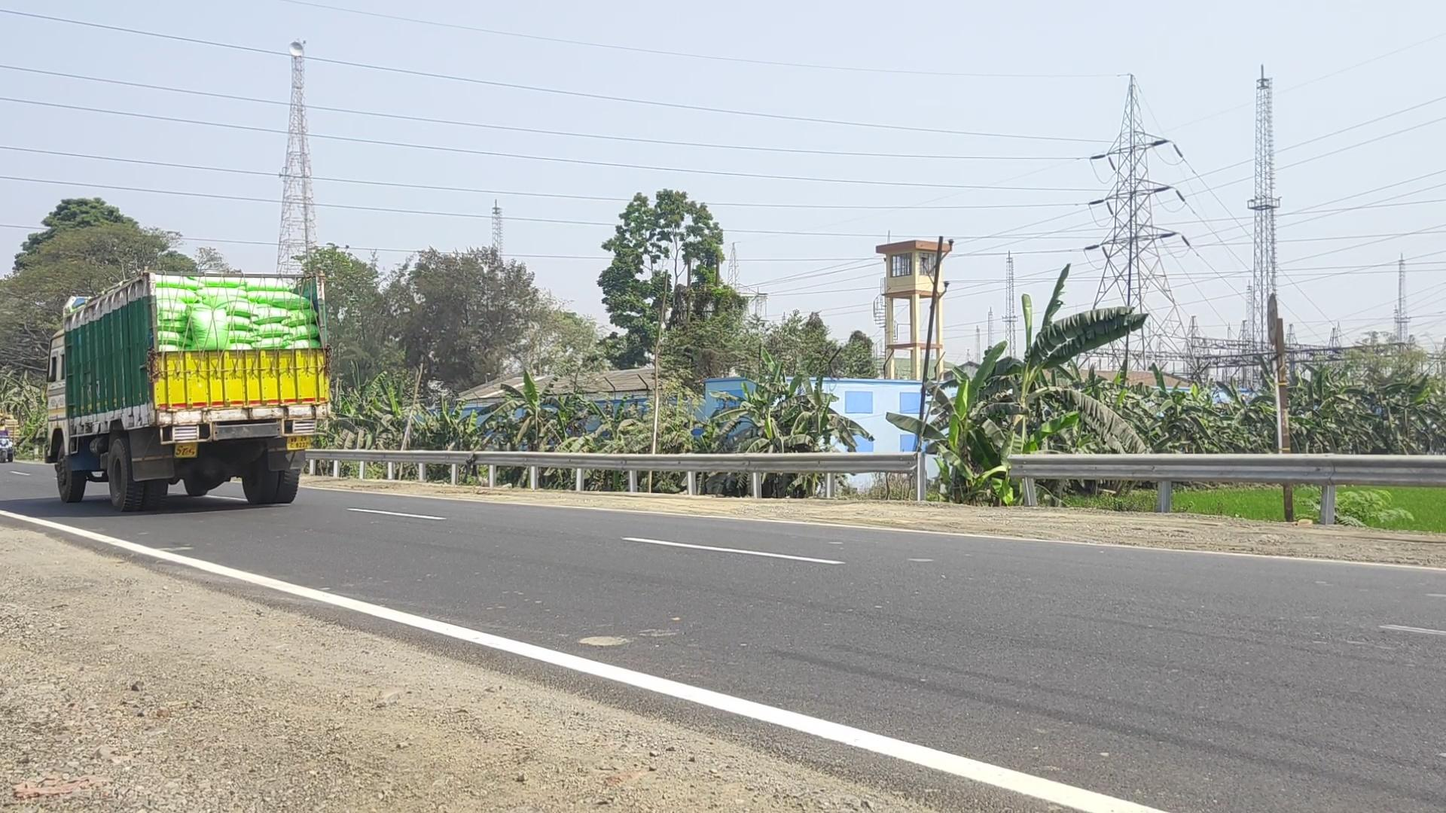truck: (44, 265, 331, 513)
